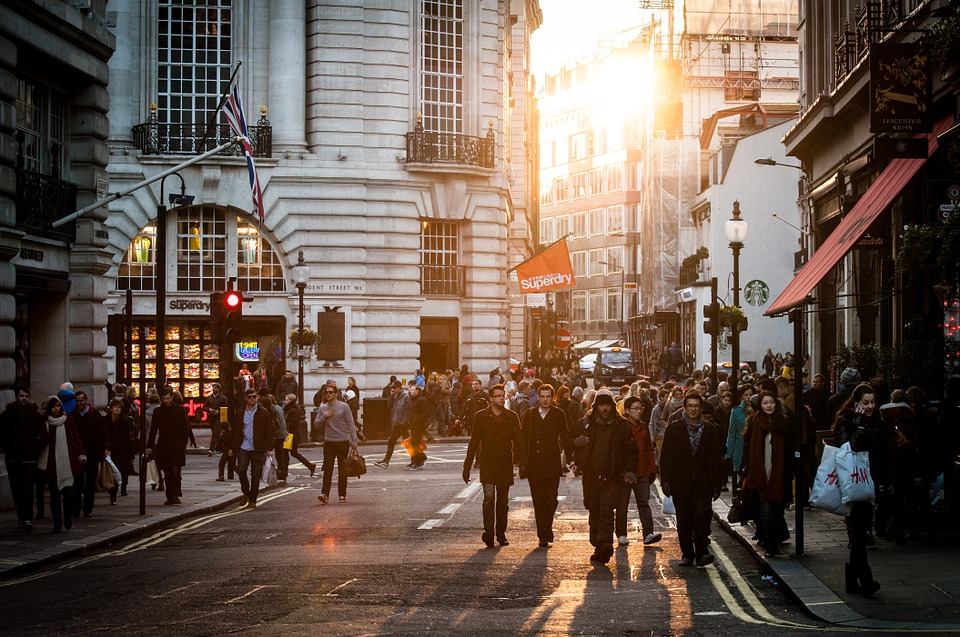person: (742, 389, 800, 549), (466, 383, 520, 537), (830, 434, 880, 593), (47, 393, 91, 524), (145, 391, 190, 506), (775, 395, 813, 529), (6, 390, 45, 519), (313, 389, 358, 499), (38, 387, 73, 520), (837, 475, 877, 590), (63, 396, 97, 519), (831, 397, 872, 499), (240, 391, 279, 492), (308, 387, 346, 487), (73, 386, 107, 496), (84, 396, 118, 503), (847, 391, 882, 486), (320, 421, 358, 506), (228, 409, 260, 509), (817, 434, 856, 510), (723, 393, 754, 486), (258, 390, 289, 482), (233, 397, 266, 483), (111, 395, 138, 496), (828, 400, 862, 479), (275, 390, 305, 476), (228, 384, 256, 476), (853, 393, 889, 463), (842, 391, 877, 462), (281, 392, 312, 471), (166, 389, 199, 462), (252, 394, 283, 470), (532, 388, 560, 472), (253, 412, 282, 492), (877, 411, 911, 479), (88, 392, 113, 484), (684, 406, 713, 477), (177, 389, 205, 457), (833, 395, 863, 457), (232, 443, 258, 513), (313, 387, 339, 457), (229, 367, 253, 440), (184, 394, 212, 456), (96, 439, 121, 508), (673, 406, 700, 469), (132, 442, 156, 510), (213, 423, 238, 488), (196, 390, 219, 457), (810, 376, 832, 443), (827, 394, 851, 454), (205, 394, 227, 457), (214, 384, 235, 449), (116, 397, 137, 459), (125, 395, 146, 457), (304, 388, 326, 447), (402, 426, 424, 473), (115, 387, 134, 439), (236, 368, 253, 416), (348, 384, 364, 434), (340, 380, 355, 430), (344, 379, 359, 427), (443, 401, 458, 443), (240, 367, 255, 407), (790, 373, 803, 410), (812, 371, 827, 402), (255, 368, 269, 400), (808, 372, 821, 406), (747, 367, 761, 396), (784, 354, 798, 383), (736, 368, 750, 396), (519, 380, 533, 408), (798, 354, 811, 384), (401, 377, 415, 404), (414, 374, 427, 403), (804, 350, 816, 381), (768, 353, 781, 381), (502, 377, 515, 405), (434, 377, 446, 406), (775, 351, 787, 379), (791, 351, 803, 379), (743, 364, 755, 391), (387, 375, 400, 397), (520, 365, 531, 391), (505, 366, 516, 391), (415, 372, 427, 394), (393, 377, 405, 399), (428, 374, 439, 398), (275, 340, 285, 366), (413, 373, 424, 395), (405, 372, 416, 394), (668, 342, 679, 364), (741, 360, 752, 381), (265, 340, 274, 365), (671, 339, 682, 359), (437, 371, 447, 393), (509, 357, 519, 378), (531, 358, 541, 378), (516, 359, 525, 381), (524, 355, 533, 376), (419, 360, 428, 378)
